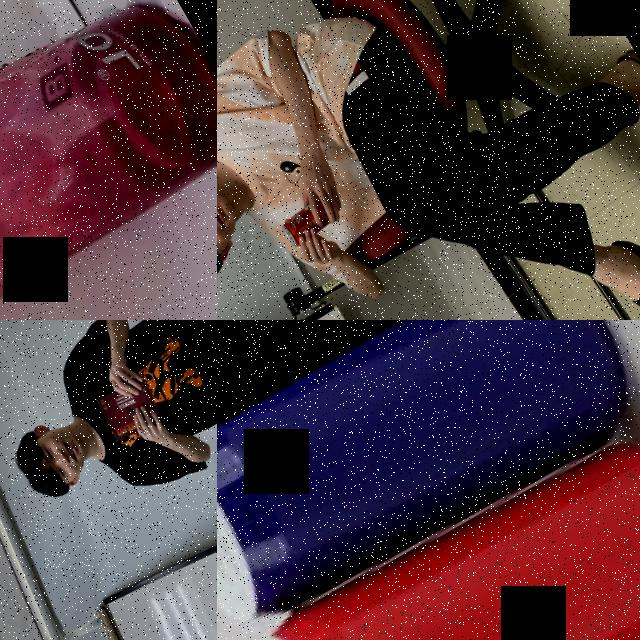bottle: (0, 0, 217, 320)
can: (217, 320, 640, 640), (230, 400, 640, 640), (275, 196, 335, 250)
